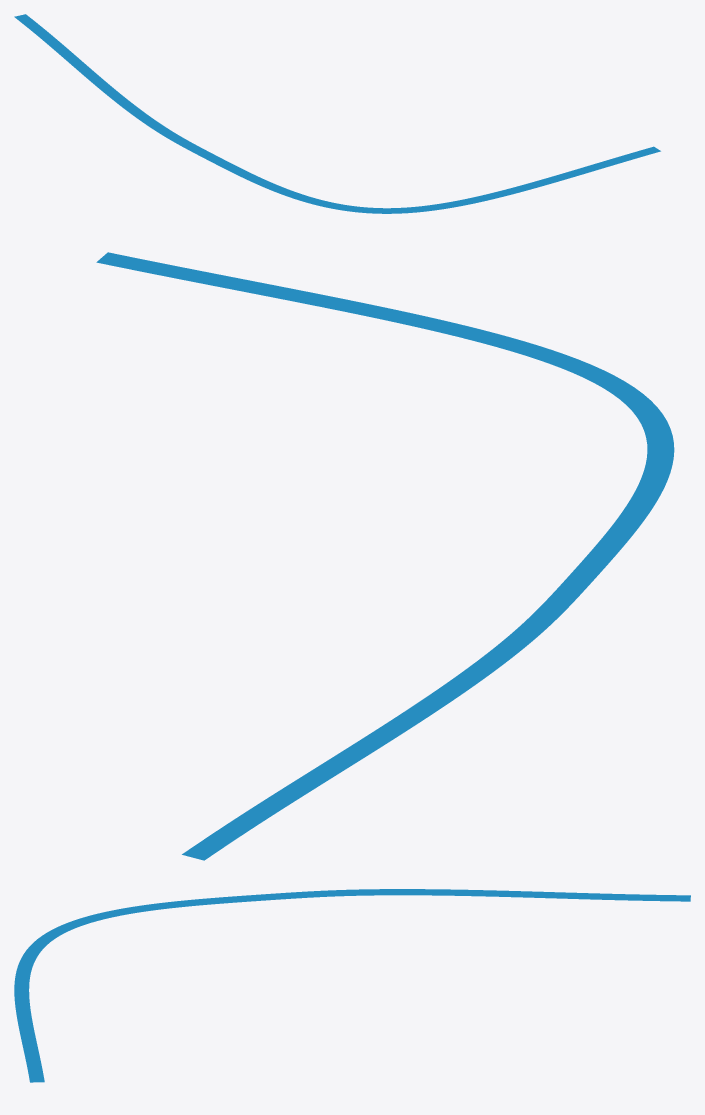
Rendered from guide.glb.
The picture shows the model from 3 angles, top to bottom: view 1: azimuth 30°, elevation 25°; view 2: azimuth 150°, elevation 25°; view 3: azimuth 270°, elevation 25°; orthographic projection. The views are drawn at different scales.
Visible parts, largest first — view 1: static; view 2: static; view 3: static.
Boxes of the visible parts, x1,y1,x2,y2 form: static: (14, 14, 660, 213); static: (96, 252, 674, 860); static: (14, 889, 690, 1082).
Bounding box in the file's own units: 10.83 × 0 × 14.62.
